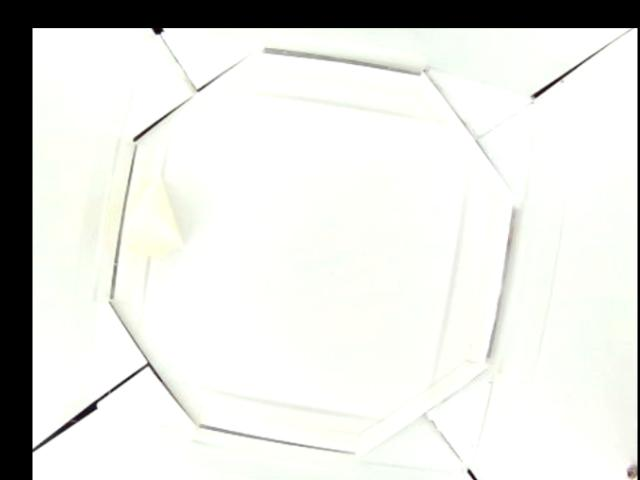Mooli: (122, 175, 182, 255)
